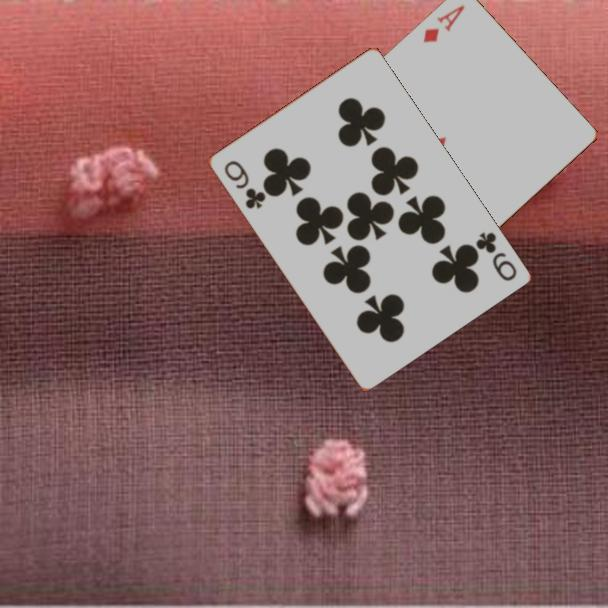c09: (220, 157, 268, 212), (472, 228, 519, 284)
d01: (420, 2, 468, 46)
